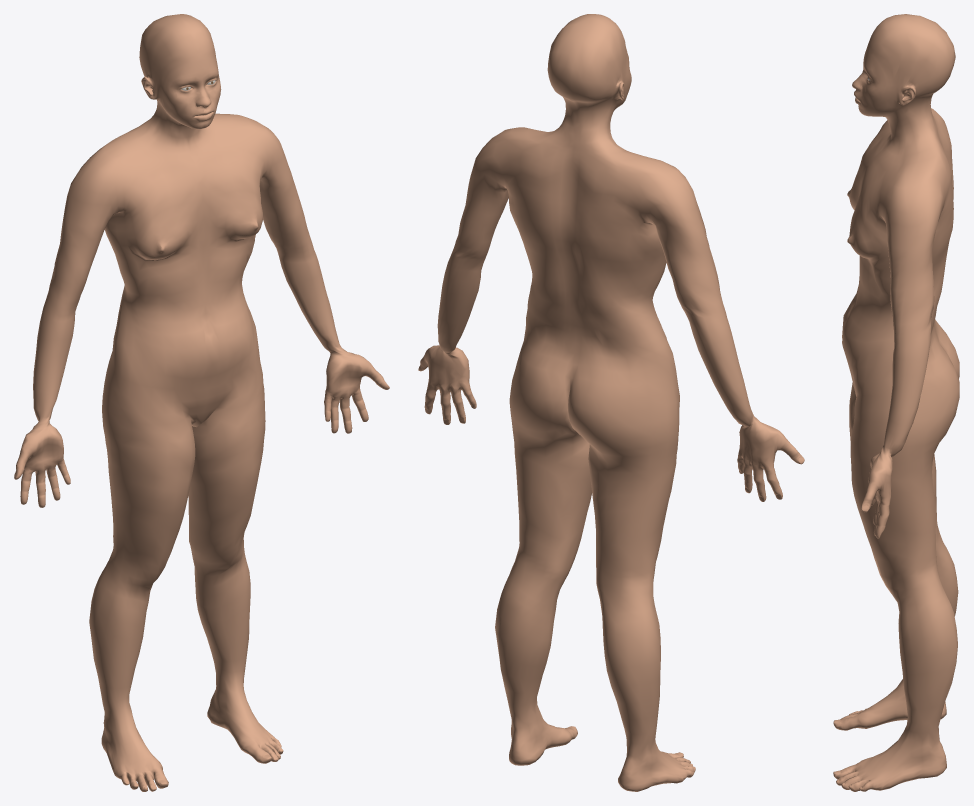
Rendered from mh-skin-female.glb.
3 views of the same model, side by side, from view 1: azimuth 30°, elevation 25°; view 2: azimuth 150°, elevation 25°; view 3: azimuth 270°, elevation 25° (orthographic). The views are drawn at different scales.
Parts seen in each view (by area): view 1: skin_body_female; view 2: skin_body_female; view 3: skin_body_female.
Boxes of the visible parts, <box> form: skin_body_female: <box>14,14,389,791</box>; skin_body_female: <box>418,14,804,791</box>; skin_body_female: <box>833,14,959,791</box>.
Bounding box in the file's own units: 0.8848 × 1.67 × 0.2586.
